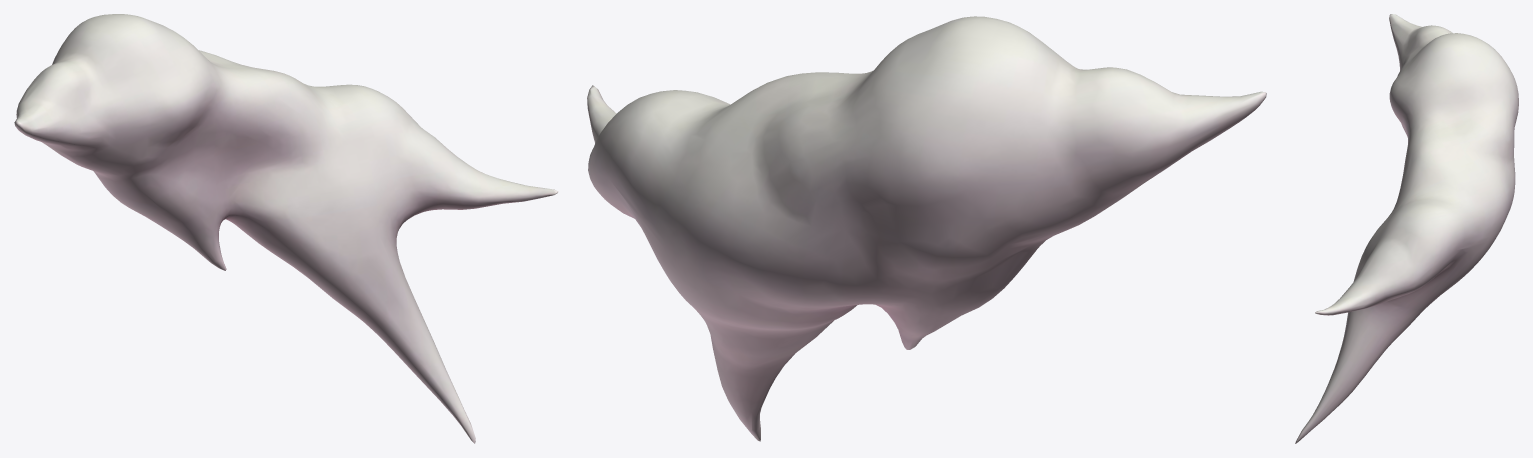
The model's file is sky_cloud_02c.glb.
3 renders of one model, left to right at view 1: azimuth 30°, elevation 25°; view 2: azimuth 150°, elevation 25°; view 3: azimuth 270°, elevation 25°, orthographic. The views are drawn at different scales.
Visible parts, largest first — view 1: cloud_02c; view 2: cloud_02c; view 3: cloud_02c.
Part boxes in pixels (x1,y1,x2,y2): cloud_02c: (14,14,558,443); cloud_02c: (587,16,1266,441); cloud_02c: (1295,14,1518,443).
Bounding box in the file's own units: 58.42 × 46.42 × 30.19.
Materials: 1 (1 with a texture image).
